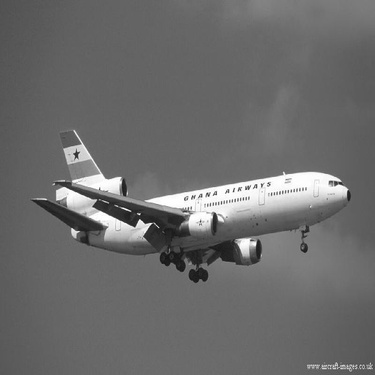airplane: (25, 123, 354, 285)
